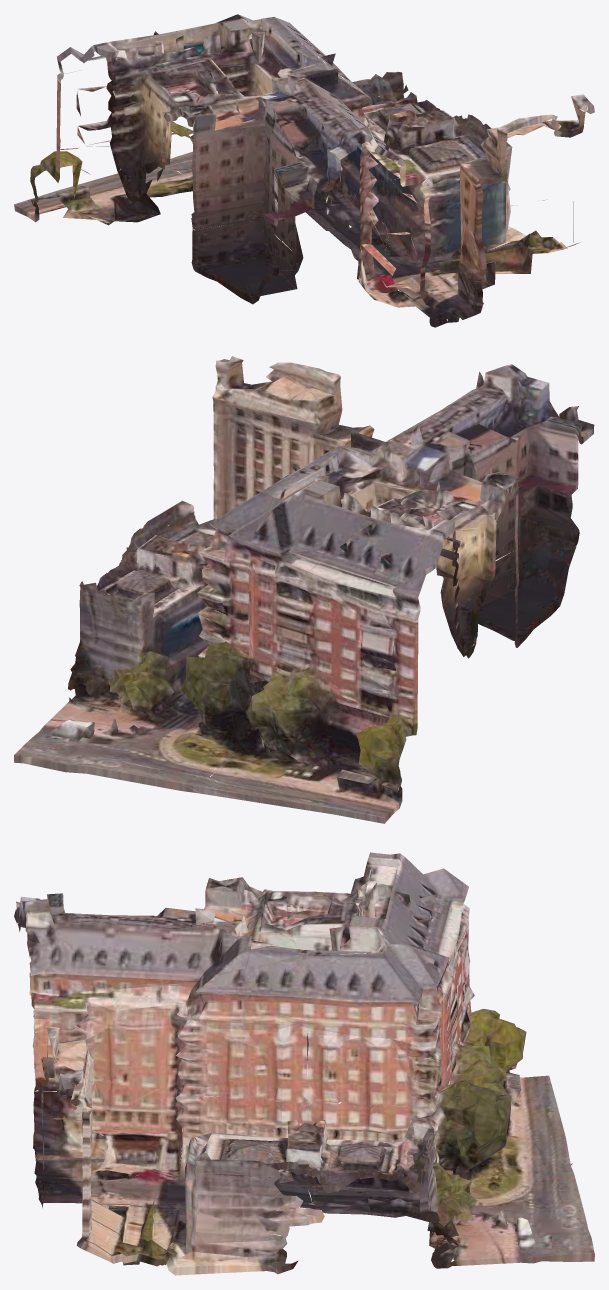
3 views of the same model, one above another, from view 1: azimuth 30°, elevation 25°; view 2: azimuth 150°, elevation 25°; view 3: azimuth 270°, elevation 25° (orthographic). The views are drawn at different scales.
Visible parts, largest first — view 1: Mesh_0; view 2: Mesh_0; view 3: Mesh_0.
Part boxes in pixels (x1,y1,x2,y2): Mesh_0: [14, 14, 594, 327]; Mesh_0: [14, 356, 594, 823]; Mesh_0: [14, 852, 594, 1275].
Bounding box in the file's own units: 66.57 × 39.65 × 82.46.
1 material, 1 textured.
